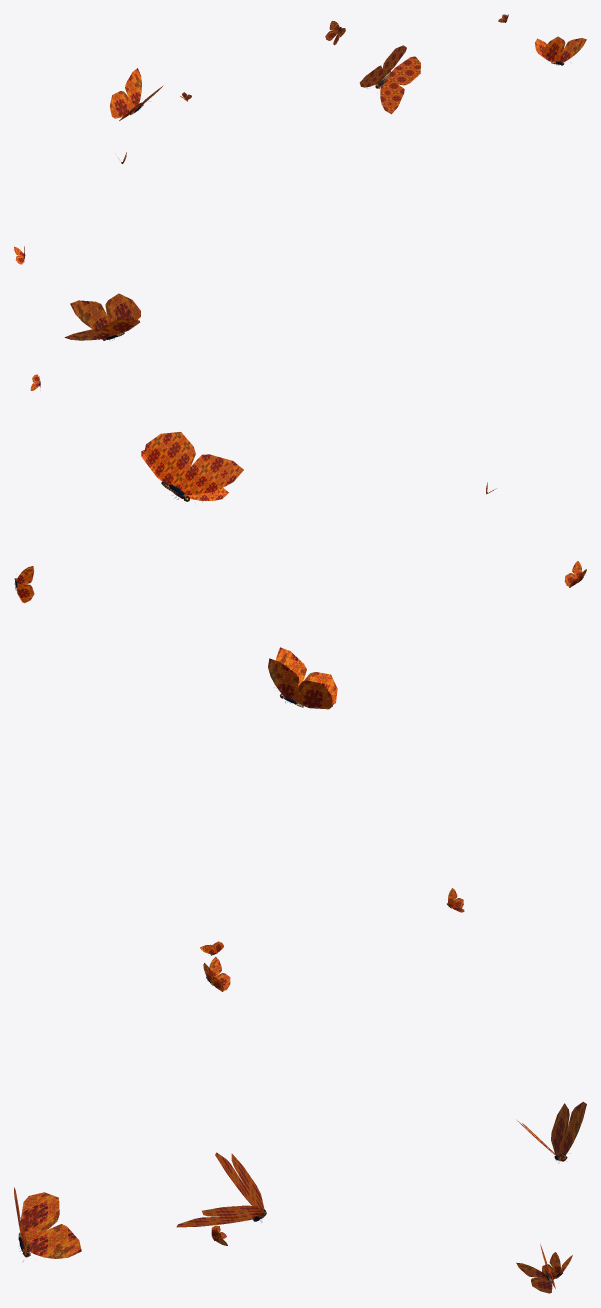
Rendered from asset.glb.
The picture shows the model from 3 angles, top to bottom: view 1: azimuth 30°, elevation 25°; view 2: azimuth 150°, elevation 25°; view 3: azimuth 270°, elevation 25°; orthographic projection. The views are drawn at different scales.
Parts seen in each view (by area): view 1: Butterfly.004, Butterfly, Butterfly.007; view 2: Butterfly.004, Butterfly, Butterfly.007; view 3: Butterfly.007, Butterfly.004, Butterfly, Butterfly.003, Butterfly.002.
Part boxes in pixels (left/top/right/bottom): Butterfly.004: left=359, top=45, right=420, bottom=114; Butterfly: left=109, top=68, right=163, bottom=120; Butterfly.007: left=535, top=36, right=586, bottom=65; Butterfly.004: left=141, top=432, right=243, bottom=502; Butterfly: left=268, top=647, right=337, bottom=709; Butterfly.007: left=64, top=293, right=140, bottom=340; Butterfly.007: left=14, top=1187, right=81, bottom=1262; Butterfly.004: left=176, top=1152, right=266, bottom=1227; Butterfly: left=516, top=1101, right=586, bottom=1161; Butterfly.003: left=516, top=1244, right=555, bottom=1293; Butterfly.002: left=203, top=957, right=230, bottom=991.
Size of the model in its own units: 4.74 by 2.55 by 3.02.
Materials: 2 (2 with a texture image).
